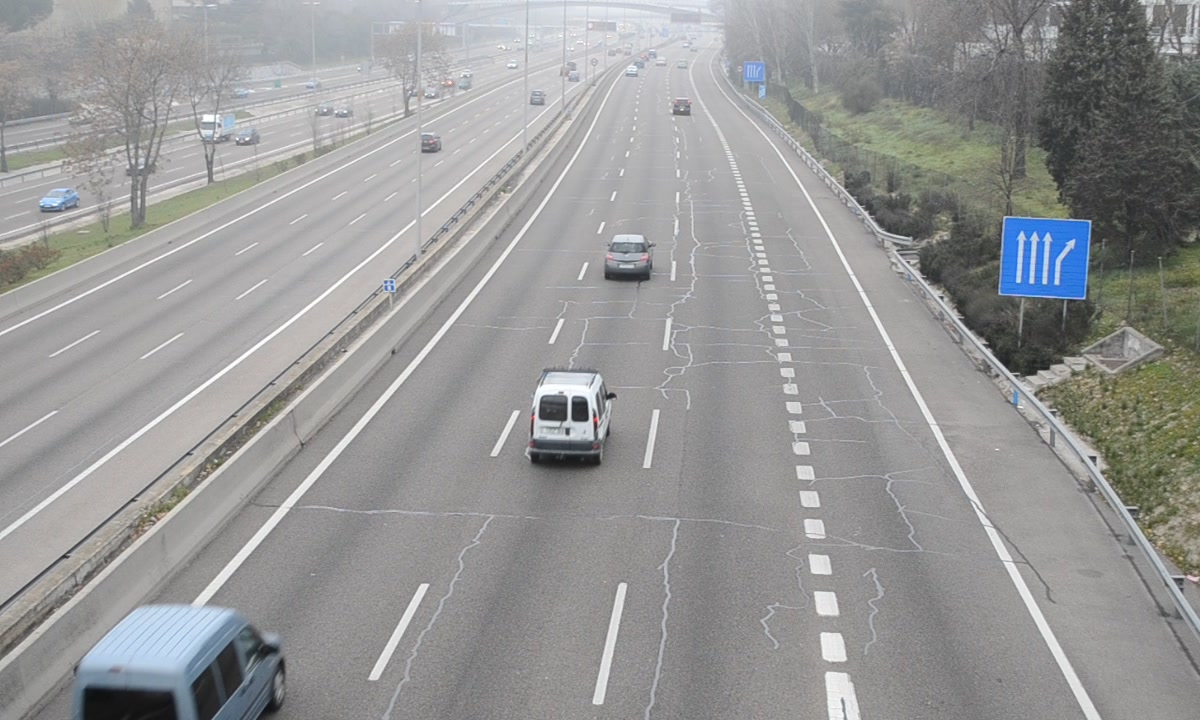car: (604, 234, 653, 279)
van: (65, 606, 286, 720), (530, 371, 610, 458)
